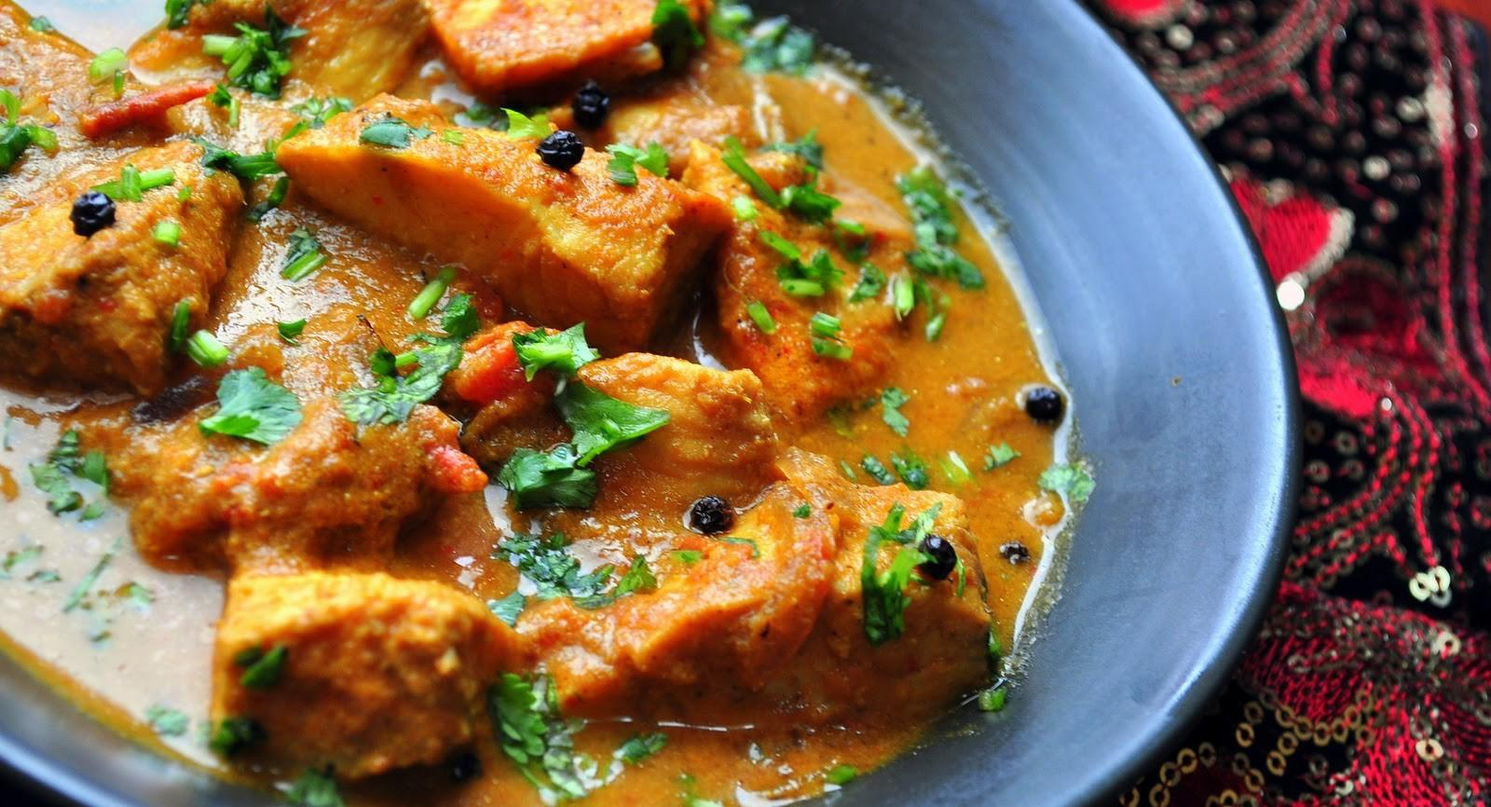FishCurry: (0, 0, 1079, 807)
